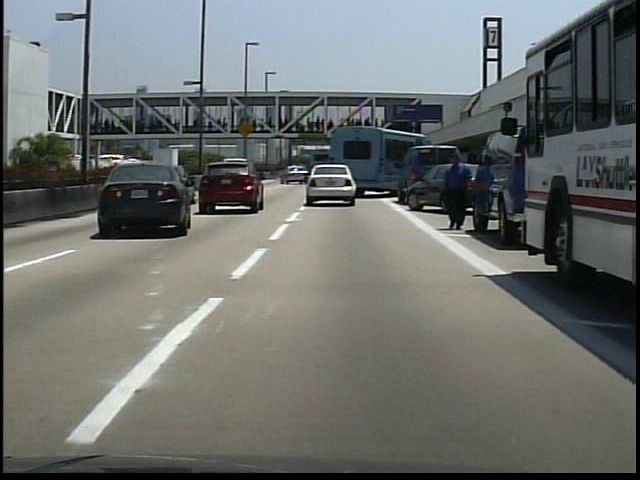person: (438, 154, 478, 236)
